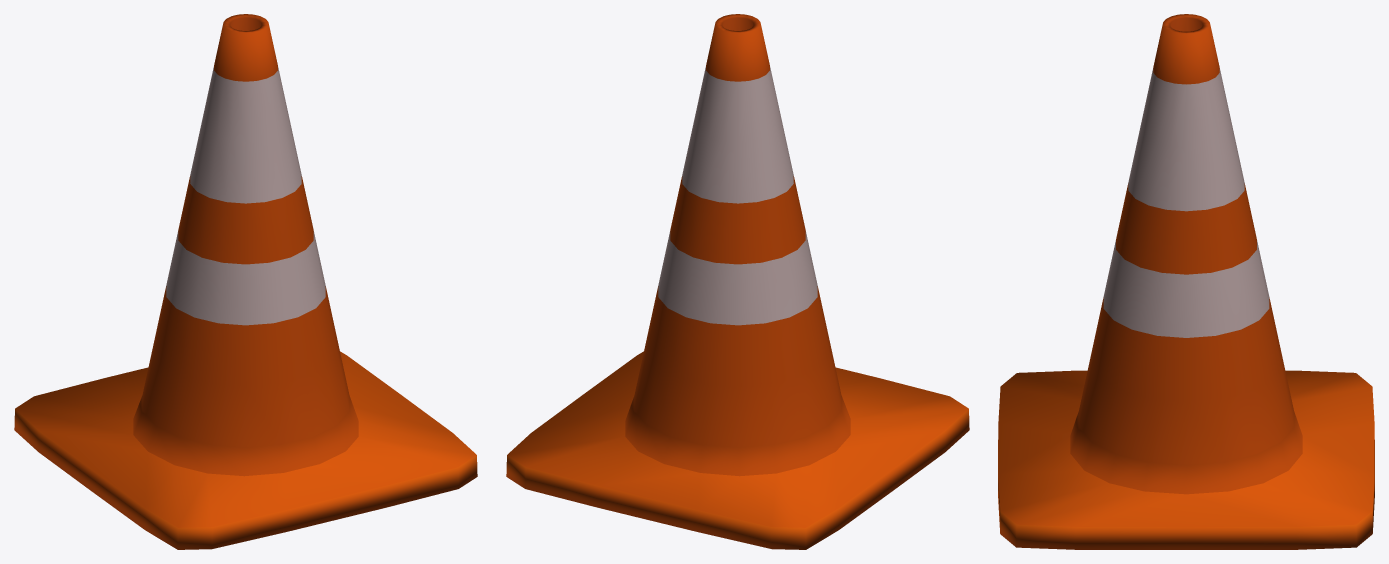
File: TrafficCone.gltf
3 renders of one model, left to right at view 1: azimuth 30°, elevation 25°; view 2: azimuth 150°, elevation 25°; view 3: azimuth 270°, elevation 25°, orthographic. The views are drawn at different scales.
Parts seen in each view (by area): view 1: TrafficCone; view 2: TrafficCone; view 3: TrafficCone.
Boxes of the visible parts, x1=… form: TrafficCone: x1=14, y1=14, x2=477, y2=549; TrafficCone: x1=506, y1=14, x2=969, y2=549; TrafficCone: x1=998, y1=14, x2=1374, y2=549.
Size of the model in its own units: 6.06 by 8.06 by 6.15.
